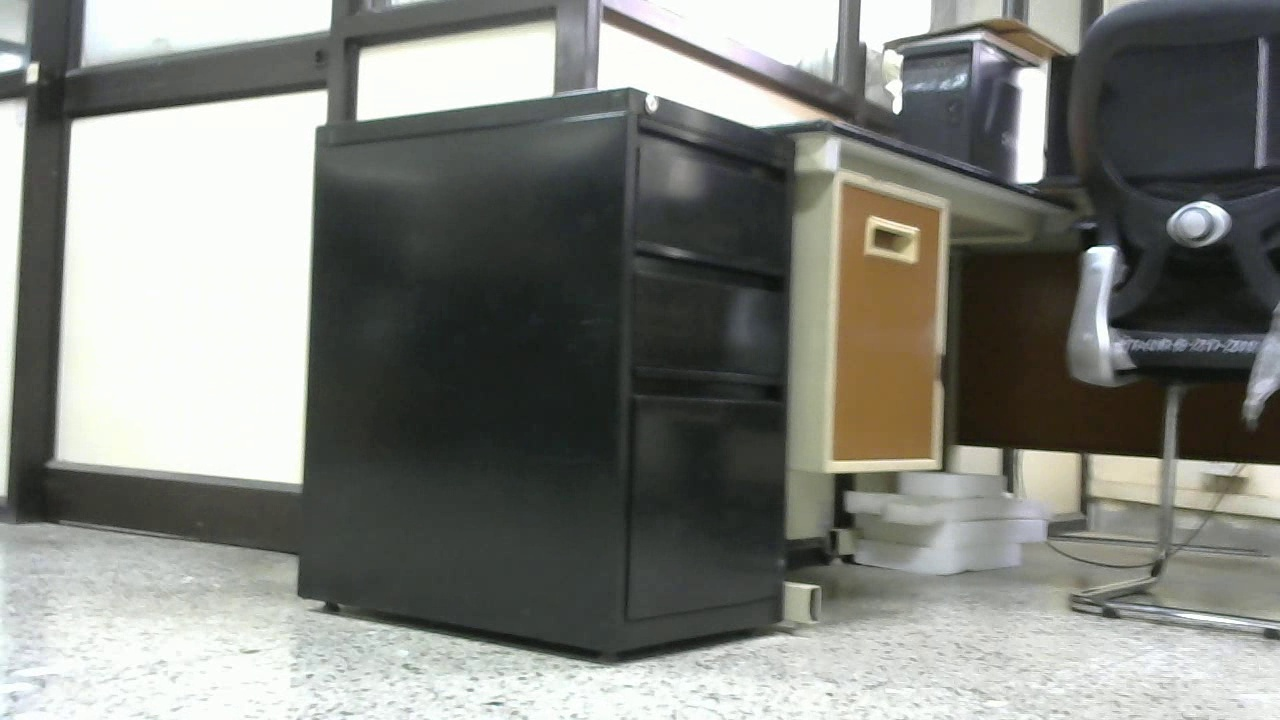chair: (1061, 1, 1280, 641)
